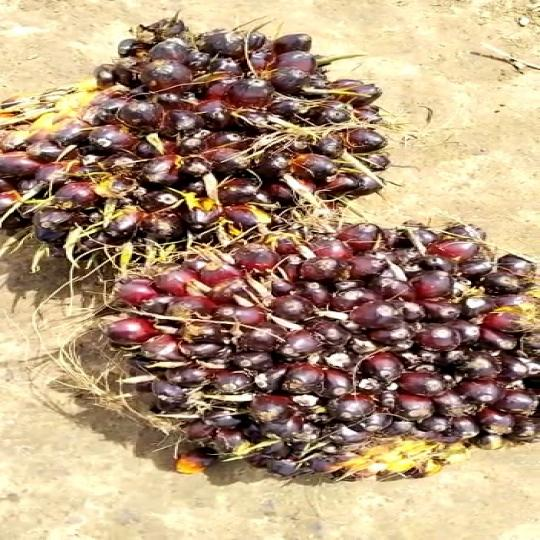kurang masak: (104, 215, 540, 502), (0, 0, 420, 265)
